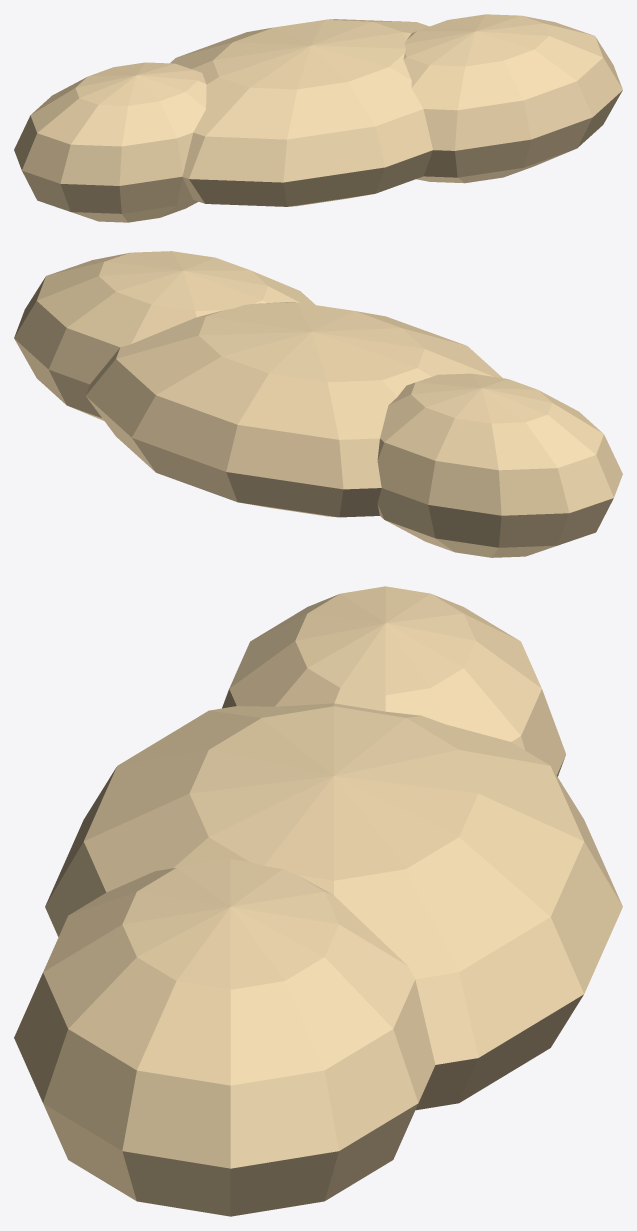
Rendered from snow_pile.glb.
3 views of the same model, one above another, from view 1: azimuth 30°, elevation 25°; view 2: azimuth 150°, elevation 25°; view 3: azimuth 270°, elevation 25° (orthographic). The views are drawn at different scales.
Parts seen in each view (by area): view 1: snow, snow.002, snow.001; view 2: snow, snow.001, snow.002; view 3: snow, snow.002, snow.001.
Boxes of the visible parts, x1,y1,x2,y2 form: snow: (170,19,432,206); snow.002: (403,14,622,183); snow.001: (14,62,206,222); snow: (86,302,502,517); snow.001: (377,373,622,557); snow.002: (14,251,315,420); snow: (45,703,622,1110); snow.002: (14,859,435,1216); snow.001: (222,586,565,776).
Size of the model in its own units: 2.4 by 0.56 by 1.18.
